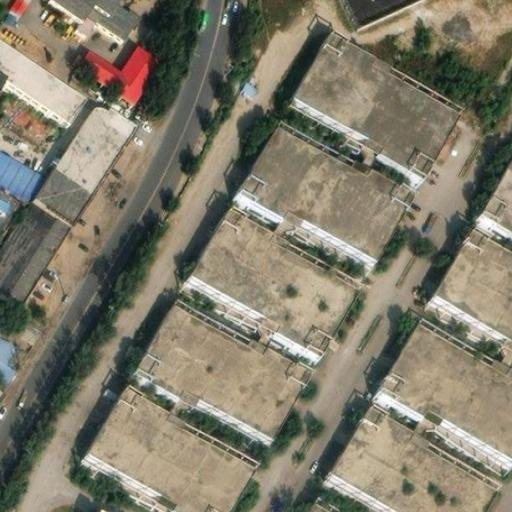building: (187, 206, 358, 355), (235, 118, 407, 259), (132, 301, 304, 442), (293, 33, 462, 175), (83, 389, 249, 512), (375, 316, 512, 462), (327, 406, 493, 512), (429, 235, 512, 354), (55, 99, 134, 186), (7, 206, 75, 296), (0, 191, 59, 286), (74, 38, 161, 102), (0, 51, 76, 123), (53, 0, 137, 38), (36, 162, 92, 215), (477, 155, 512, 236), (0, 145, 41, 194), (300, 496, 342, 512), (235, 75, 259, 99), (77, 15, 92, 30), (7, 0, 25, 11)
